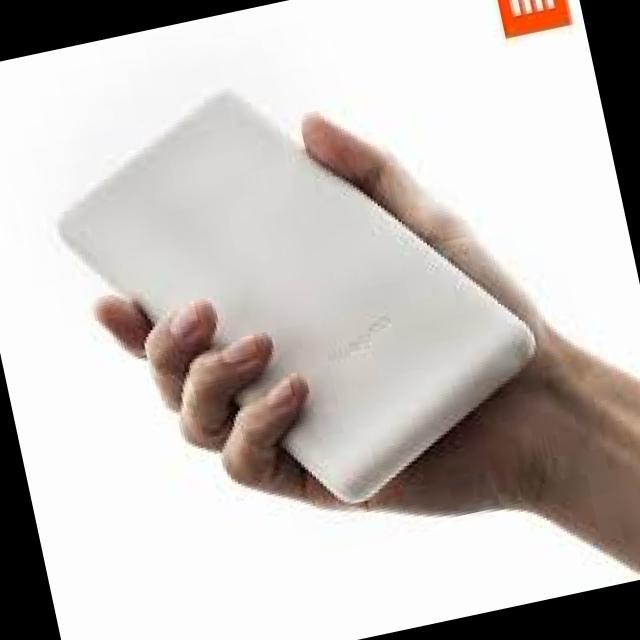power_bank: (22, 34, 560, 565)
